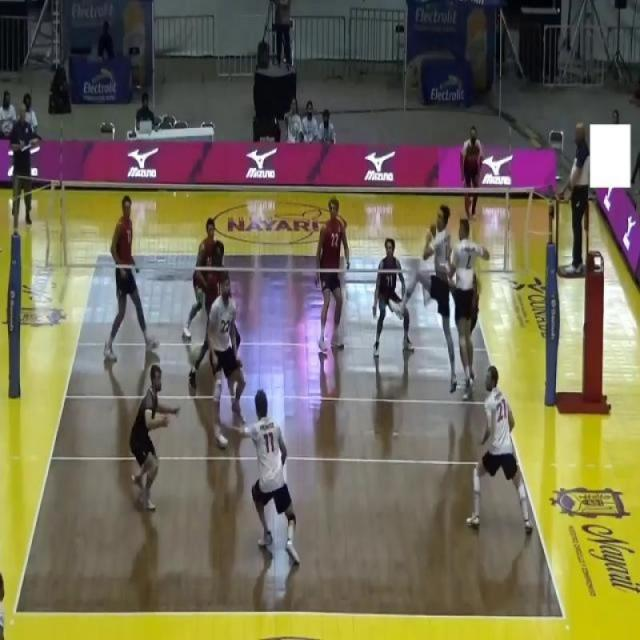volleyball: (188, 343, 202, 368)
